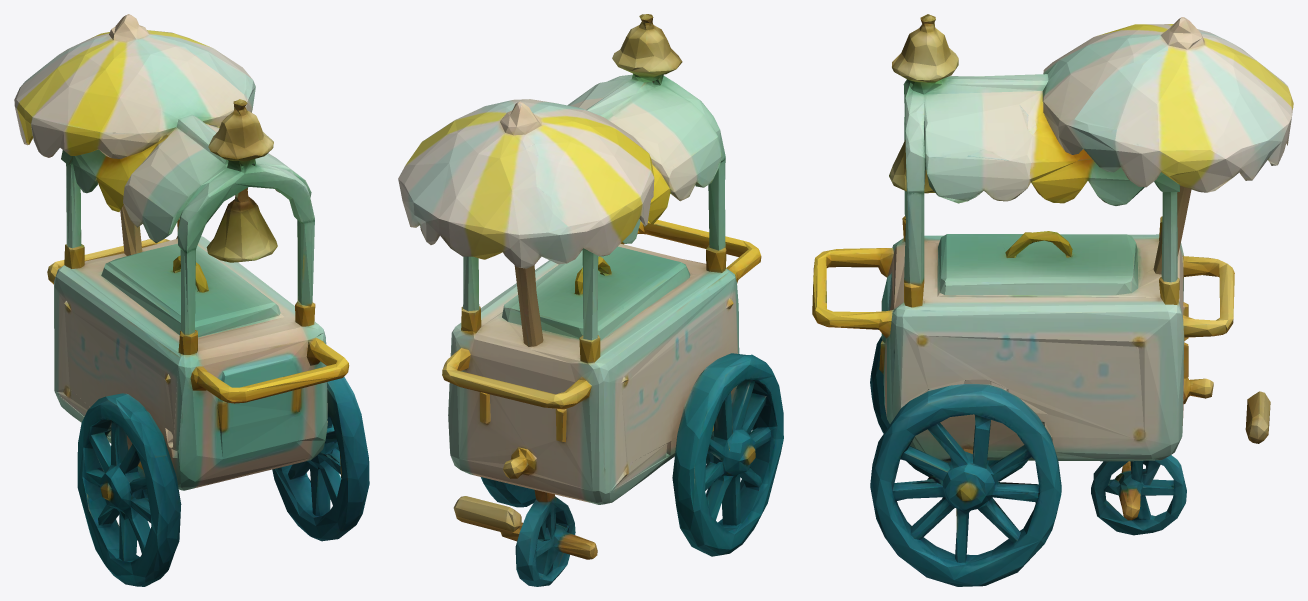
Rendered from icecart.glb.
The picture shows the model from 3 angles, left to right: view 1: azimuth 30°, elevation 25°; view 2: azimuth 150°, elevation 25°; view 3: azimuth 270°, elevation 25°; orthographic projection. The views are drawn at different scales.
Parts seen in each view (by area): view 1: geometry_0; view 2: geometry_0; view 3: geometry_0.
Boxes of the visible parts, x1,y1,x2,y2 form: geometry_0: (14,14,369,586); geometry_0: (398,14,783,586); geometry_0: (812,14,1293,586).
Size of the model in its own units: 0.5235 by 0.9997 by 0.8403.
1 material, 1 textured.
